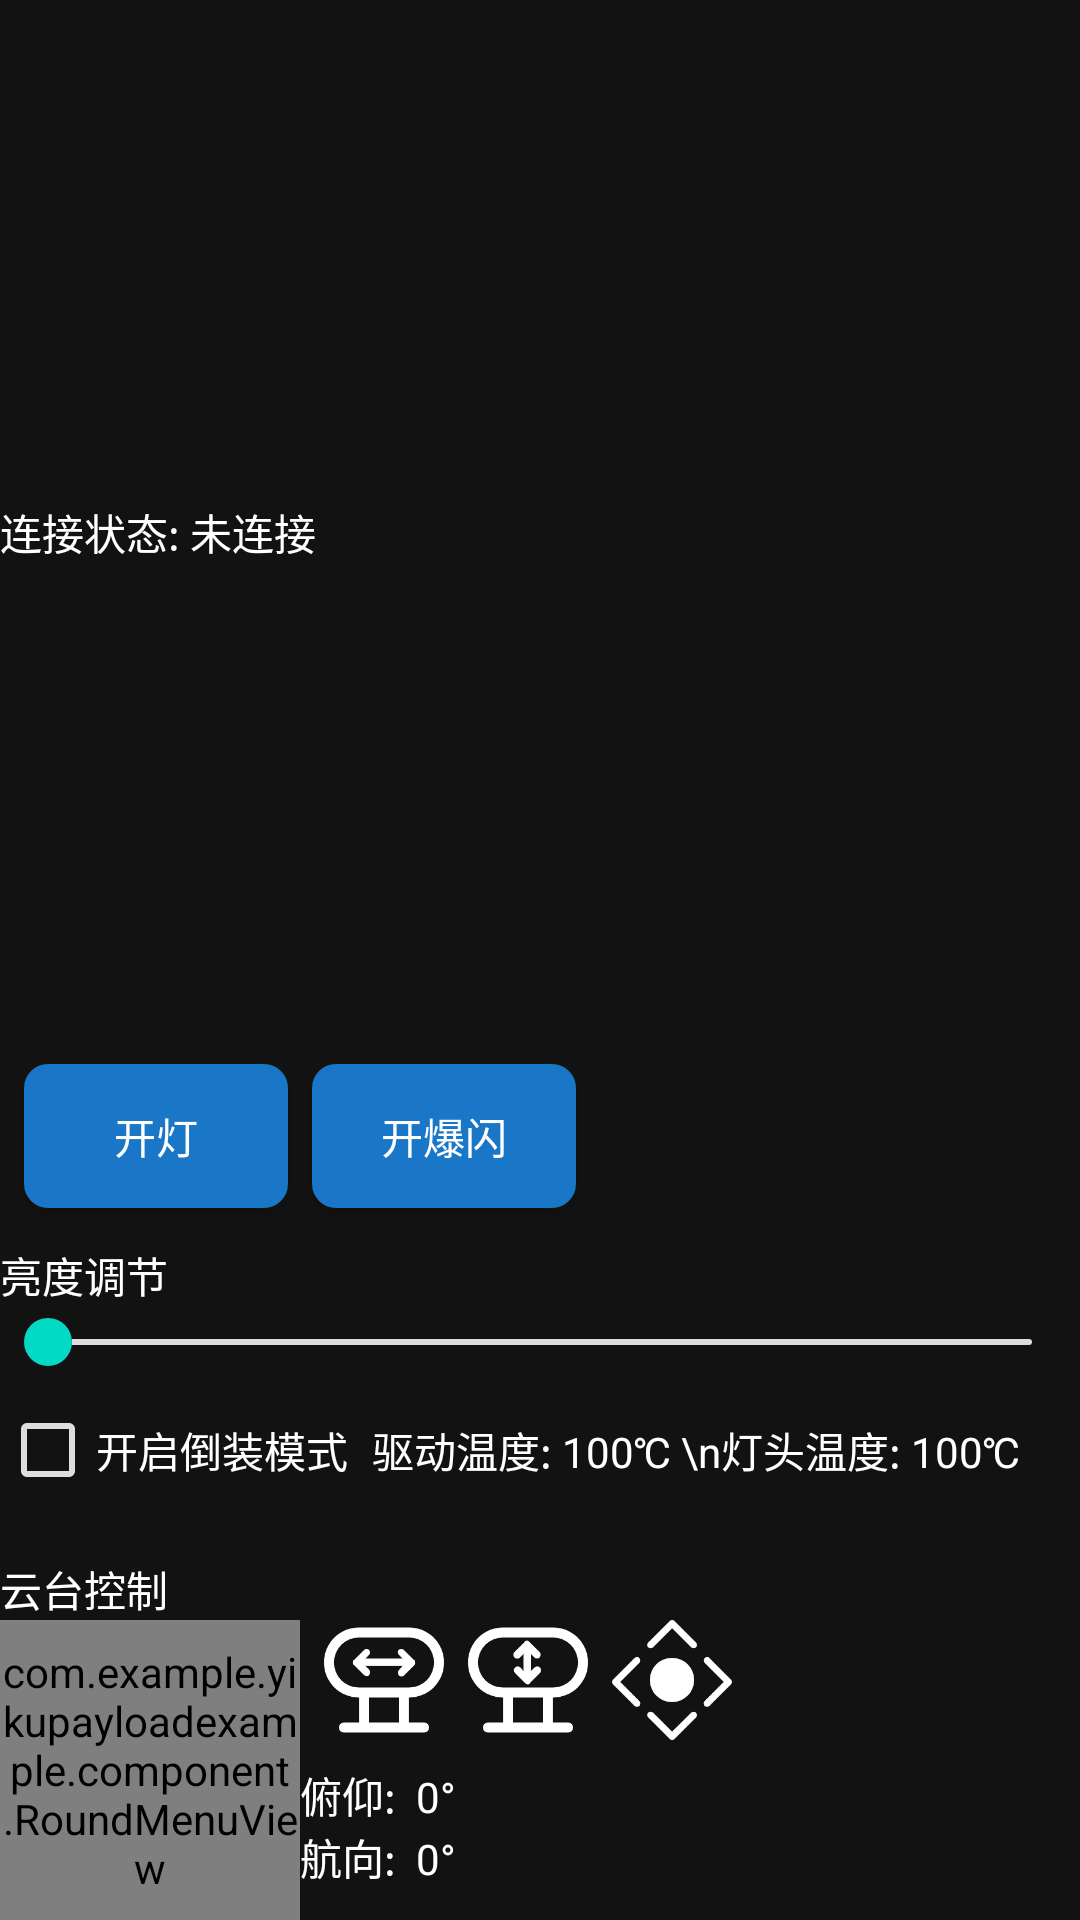

Icon bounding boxes for this 1080w x 1920h phone screenshot, format (left=x1, top=y1, right=x2, bottom=y2):
pianhanghuizhong: (left=324, top=1627, right=444, bottom=1733)
yuntaihuizhong: (left=612, top=1620, right=732, bottom=1740)
